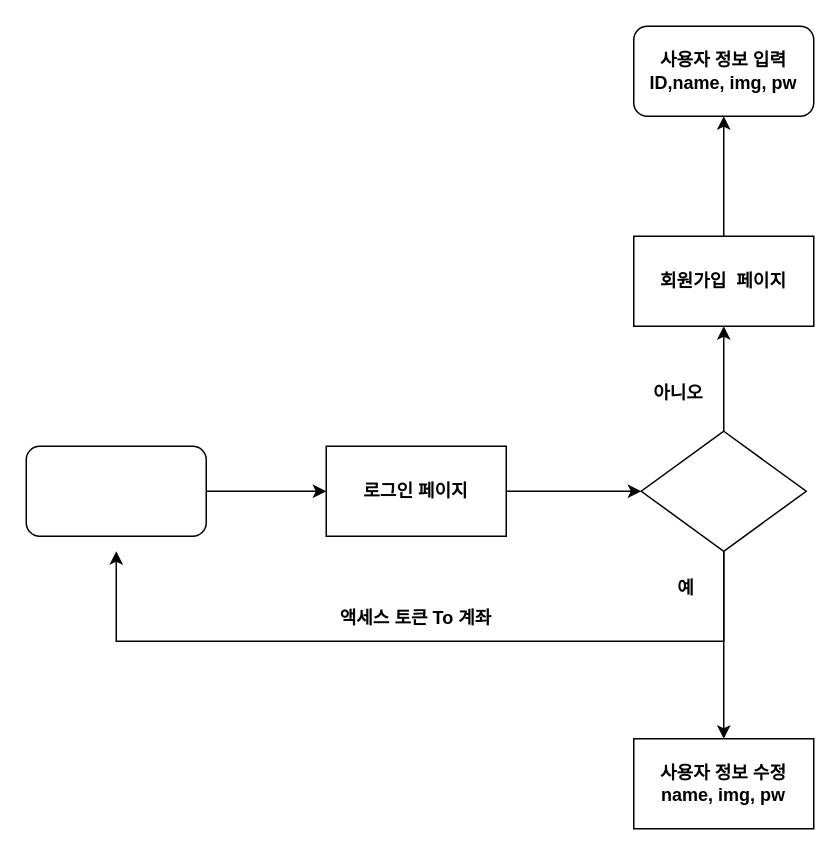
Image size: 840x855. Some labels were removed from this diagram. Here are the shapes that lost their labels. From the top down, the box of each, then its label:
(25, 445, 206, 536): 홈페이지 메인
(640, 430, 806, 551): 로그인 여부
